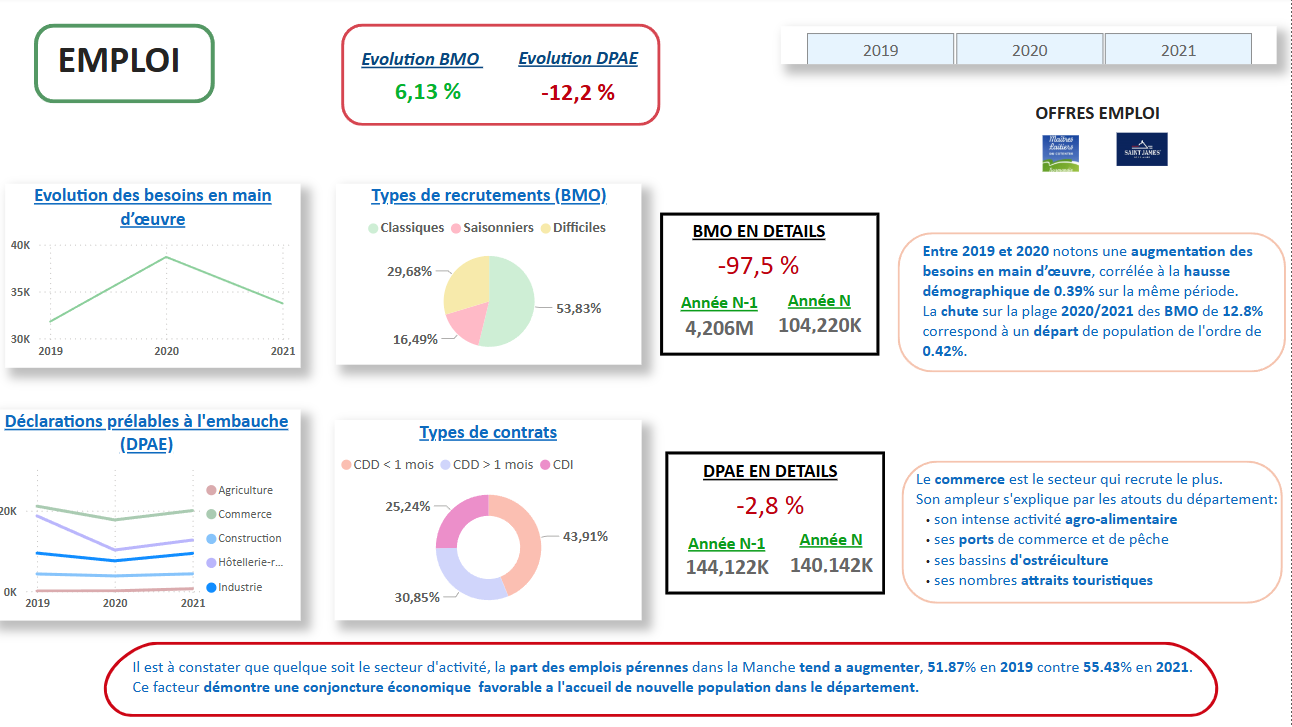

The dashboard page shown, as its layout file describes it:
{"tool":"powerbi","page":{"name":"Emploi","canvas":[1280,720],"ordinal":4},"visuals":[{"type":"group","id":"g1","title":"Groupe 2","box":[351,44.3,146.8,69.4],"z":0,"group":"g16"},{"type":"group","id":"g2","title":"Groupe 7","box":[639.6,214.6,230.9,130.6],"z":0,"group":"g5"},{"type":"lineChart","title":"Déclarations prélables à l''embauche (DPAE)","fields":{"Category":["DPAE.date_id"],"Y":["Sum(DPAE.DPAE)"],"Series":["DPAE.secteurs_activité"]},"box":[0,406.6,304.2,207.8],"z":0},{"type":"group","id":"g3","title":"Groupe 7","box":[652.1,450.8,230,124.7],"z":0,"group":"g12"},{"type":"group","id":"g4","title":"Groupe 5","box":[507.3,43,140.9,67.4],"z":1000,"group":"g16"},{"type":"card","title":"Population","fields":{"Values":["DPAE.variation_dpae_2019_2021_taux"]},"box":[523,75.3,109.7,35.1],"z":1000,"group":"g4"},{"type":"card","title":"Population","fields":{"Values":["DEMOGRAPHIE_LOGEMENT.evol_construc_taux"]},"box":[373.3,76.5,107.9,37.2],"z":1000,"group":"g1"},{"type":"image","box":[1096.7,128.5,72.8,43.2],"z":1000,"group":"g8"},{"type":"shape","box":[658,213.7,216.1,141],"z":1000,"group":"g5"},{"type":"donutChart","title":"Types de contrats","fields":{"Y":["Sum(DPAE.DPAE)"],"Category":["DPAE.types_contrats"]},"box":[336.9,417,302.7,197.4],"z":1000},{"type":"shape","box":[663.9,448.1,216.7,141],"z":1000,"group":"g12"},{"type":"textbox","box":[132.5,645.1,1072.9,56.4],"z":1000,"group":"g7"},{"type":"shape","box":[344.3,26.7,314.6,100.9],"z":2000,"group":"g6"},{"type":"textbox","box":[59.1,33.6,163.2,62.3],"z":2000,"group":"g13"},{"type":"card","fields":{"Values":["BMO.variartion_metier_2019_2021_taux"]},"box":[375.8,73.9,108.4,36.5],"z":2000,"group":"g16"},{"type":"pieChart","title":"Types de recrutements (BMO)","fields":{"Y":["Sum(BMO.met)","Sum(BMO.smet)","Sum(BMO.xmet)"]},"box":[338.3,185.5,301.2,178.1],"z":2000},{"type":"card","title":"Population","fields":{"Values":["BMO.evol_bmo_taux"]},"box":[704.6,239.3,100.4,50.9],"z":2000,"group":"g14"},{"type":"card","title":"Population","fields":{"Values":["DPAE.evol_dpae_taux"]},"box":[716.9,474.9,100.1,49.7],"z":2000,"group":"g15"},{"type":"textbox","box":[507.3,43,140.9,36.8],"z":3000,"group":"g4"},{"type":"textbox","box":[1022.5,97.9,147.4,33.5],"z":3000,"group":"g8"},{"type":"lineChart","title":"Evolution des besoins en main d’œuvre","fields":{"Category":["FACT_Date.date.Variation.Date Hierarchy.Year"],"Y":["BMO.tot_metier"]},"box":[13.4,185.5,290.9,181],"z":3000},{"type":"shape","box":[99.4,636.6,1118.9,74.2],"z":3000,"group":"g7"},{"type":"textbox","box":[351,44.3,146.8,61.9],"z":4000,"group":"g1"},{"type":"group","id":"g5","title":"Groupe 1","box":[639.6,213.7,234.5,141],"z":4000},{"type":"card","title":"Année N-1","fields":{"Values":["BMO.tot_metier_N-1"]},"box":[658.3,291.5,116.5,50.8],"z":4000,"group":"g14"},{"type":"textbox","box":[904.9,459.9,376.9,133.6],"z":4000,"group":"g11"},{"type":"card","title":"Année N-1","fields":{"Values":["DPAE.tot_dpae_N-1"]},"box":[666.9,526.5,115.7,49],"z":4000,"group":"g15"},{"type":"group","id":"g6","title":"Groupe 3","box":[344.3,26.7,314.6,100.9],"z":5000},{"type":"image","box":[1022.4,131.3,60.6,46],"z":5000,"group":"g8"},{"type":"card","title":"Année N","fields":{"Values":["BMO.tot_metier_N"]},"box":[767.9,288.7,93.9,46.4],"z":5000,"group":"g14"},{"type":"card","title":"Année N","fields":{"Values":["DPAE.tot_dpae_N"]},"box":[779.9,523.2,93.6,45.3],"z":5000,"group":"g15"},{"type":"group","id":"g7","title":"Groupe 9","box":[99.4,636.6,1118.9,74.2],"z":6000},{"type":"group","id":"g8","title":"Groupe 4","box":[1022.4,97.9,148.4,80.1],"z":7000},{"type":"textbox","box":[639.6,214.6,230.9,37.3],"z":8000,"group":"g14"},{"type":"group","id":"g9","title":"Groupe 10","box":[891.9,233,385.8,154.3],"z":8000},{"type":"textbox","box":[652.1,450.8,230,36.4],"z":8000,"group":"g15"},{"type":"group","id":"g10","title":"Groupe 7","box":[41.6,26.7,178.1,78.6],"z":9000,"group":"g13"},{"type":"group","id":"g11","title":"Groupe 11","box":[896.3,457.1,384.3,141],"z":9000},{"type":"shape","box":[41.6,26.7,178.1,78.6],"z":9003,"group":"g10"},{"type":"group","id":"g12","title":"Groupe 1","box":[652.1,448.1,230,141],"z":10000},{"type":"group","id":"g13","title":"Groupe 12","box":[41.6,26.7,181,78.6],"z":11000},{"type":"slicer","title":"NLP METHODS 2020","fields":{"Values":["FACT_Date.date.Variation.Date Hierarchy.Year"]},"box":[777.6,29.7,488.2,37.1],"z":12000},{"type":"group","id":"g14","title":"Groupe 6","box":[639.6,214.6,230.9,127.6],"z":12000,"group":"g2"},{"type":"group","id":"g15","title":"Groupe 6","box":[652.1,450.8,230,124.7],"z":12000,"group":"g3"},{"type":"group","id":"g16","title":"Groupe 8","box":[351,43,295.3,69.7],"z":14000,"group":"g6"},{"type":"textbox","box":[911.1,235,365.5,152.2],"z":15000,"group":"g9"},{"type":"shape","box":[891.9,233,382.6,138.1],"z":17003,"group":"g9"},{"type":"shape","box":[896.3,457.1,375.4,141],"z":17003,"group":"g11"}]}

Visuals, with their boxes in screenshot pixels (x1, y1, x2, y2), scaled from the page's 1280x720 canvas onto the 1292x727 screenshot:
"Groupe 2" group: [left=354, top=45, right=502, bottom=115]
"Groupe 7" group: [left=646, top=217, right=879, bottom=349]
"Déclarations prélables à l''embauche (DPAE)" lineChart: [left=0, top=411, right=307, bottom=620]
"Groupe 7" group: [left=658, top=455, right=890, bottom=581]
"Groupe 5" group: [left=512, top=43, right=654, bottom=111]
"Population" card: [left=528, top=76, right=639, bottom=111]
"Population" card: [left=377, top=77, right=486, bottom=115]
image: [left=1107, top=130, right=1180, bottom=173]
shape: [left=664, top=216, right=882, bottom=358]
"Types de contrats" donutChart: [left=340, top=421, right=646, bottom=620]
shape: [left=670, top=452, right=889, bottom=595]
textbox: [left=134, top=651, right=1217, bottom=708]
shape: [left=348, top=27, right=665, bottom=129]
textbox: [left=60, top=34, right=224, bottom=97]
card - BMO.variartion_metier_2019_2021_taux: [left=379, top=75, right=489, bottom=111]
"Types de recrutements (BMO)" pieChart: [left=341, top=187, right=645, bottom=367]
"Population" card: [left=711, top=242, right=813, bottom=293]
"Population" card: [left=724, top=480, right=825, bottom=530]
textbox: [left=512, top=43, right=654, bottom=81]
textbox: [left=1032, top=99, right=1181, bottom=133]
"Evolution des besoins en main d’œuvre" lineChart: [left=14, top=187, right=307, bottom=370]
shape: [left=100, top=643, right=1230, bottom=718]
textbox: [left=354, top=45, right=502, bottom=107]
"Groupe 1" group: [left=646, top=216, right=882, bottom=358]
"Année N-1" card: [left=664, top=294, right=782, bottom=346]
textbox: [left=913, top=464, right=1291, bottom=599]
"Année N-1" card: [left=673, top=532, right=790, bottom=581]
"Groupe 3" group: [left=348, top=27, right=665, bottom=129]
image: [left=1032, top=133, right=1093, bottom=179]
"Année N" card: [left=775, top=292, right=870, bottom=338]
"Année N" card: [left=787, top=528, right=882, bottom=574]
"Groupe 9" group: [left=100, top=643, right=1230, bottom=718]
"Groupe 4" group: [left=1032, top=99, right=1182, bottom=180]
textbox: [left=646, top=217, right=879, bottom=254]
"Groupe 10" group: [left=900, top=235, right=1290, bottom=391]
textbox: [left=658, top=455, right=890, bottom=492]
"Groupe 7" group: [left=42, top=27, right=222, bottom=106]
"Groupe 11" group: [left=905, top=462, right=1291, bottom=604]
shape: [left=42, top=27, right=222, bottom=106]
"Groupe 1" group: [left=658, top=452, right=890, bottom=595]
"Groupe 12" group: [left=42, top=27, right=225, bottom=106]
"NLP METHODS 2020" slicer: [left=785, top=30, right=1278, bottom=67]
"Groupe 6" group: [left=646, top=217, right=879, bottom=346]
"Groupe 6" group: [left=658, top=455, right=890, bottom=581]
"Groupe 8" group: [left=354, top=43, right=652, bottom=114]
textbox: [left=920, top=237, right=1289, bottom=391]
shape: [left=900, top=235, right=1286, bottom=375]
shape: [left=905, top=462, right=1284, bottom=604]
